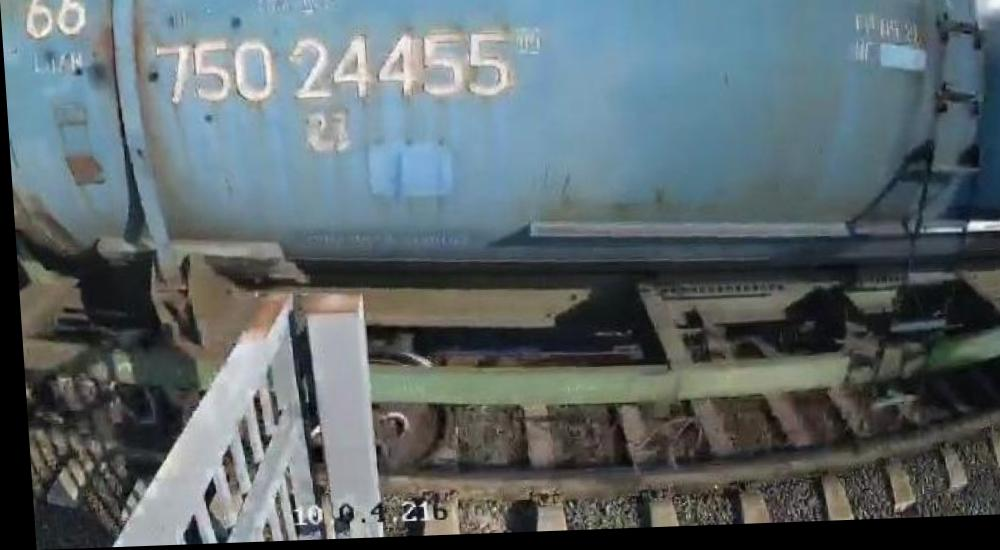Wagon-number: (153, 29, 512, 111)
